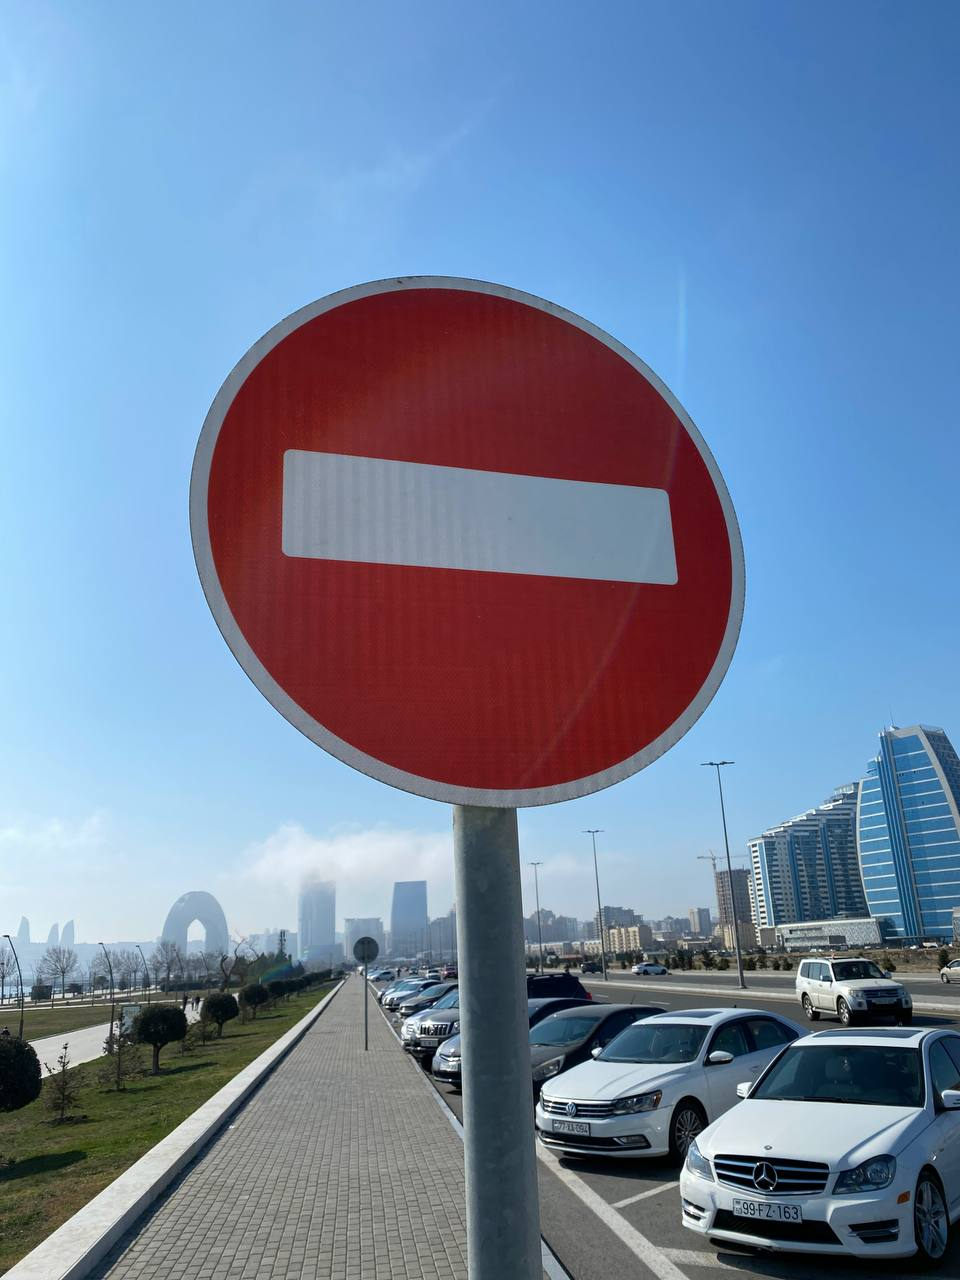No Entry: (188, 274, 749, 808)
